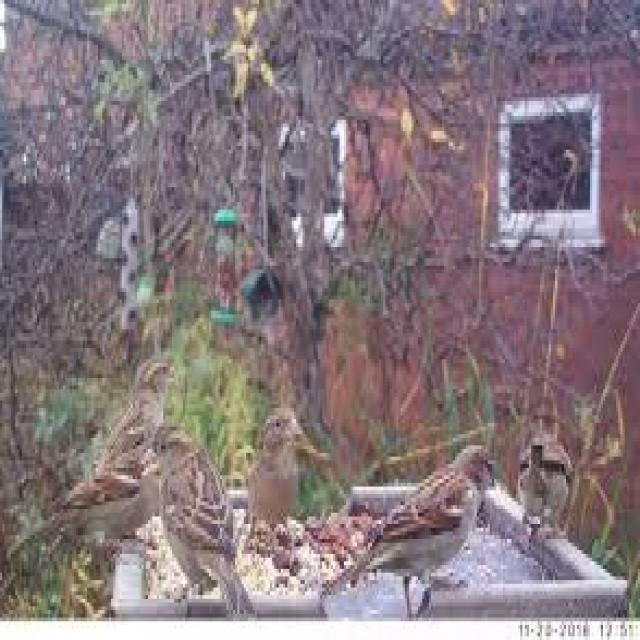bird: (331, 442, 503, 618), (144, 422, 242, 606), (70, 357, 180, 511), (243, 405, 305, 531), (518, 426, 577, 550)
